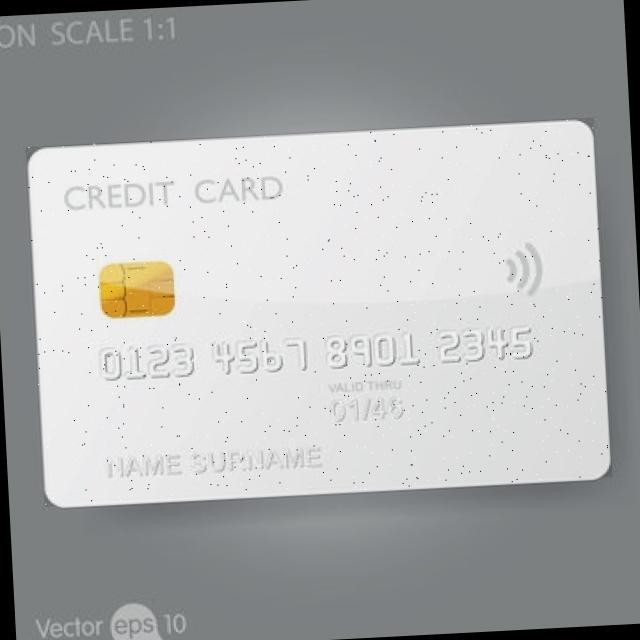payment_card: (26, 118, 612, 507)
